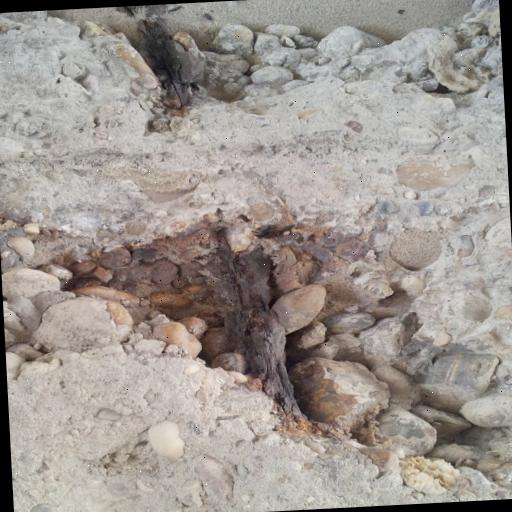spalling: (6, 201, 390, 449)
